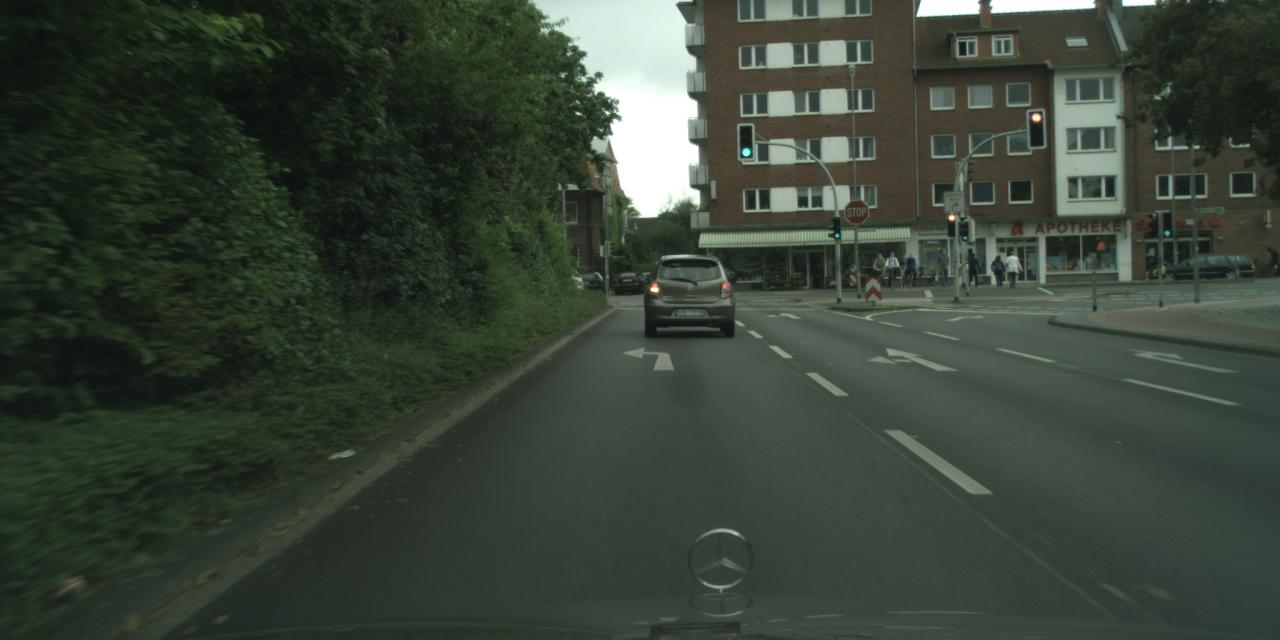ped: (934, 248, 950, 288), (1004, 250, 1019, 287), (966, 253, 979, 286), (992, 254, 1004, 286), (897, 253, 909, 283), (885, 252, 897, 282), (904, 252, 916, 281), (874, 253, 886, 281), (1267, 247, 1278, 274)
